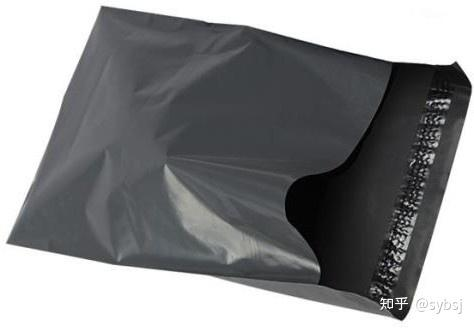塑料袋: (10, 7, 470, 319)
